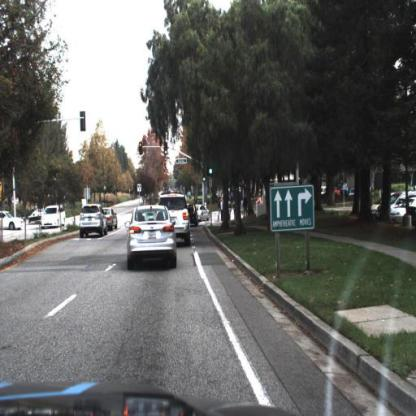car: (126, 204, 176, 271), (171, 194, 192, 247), (80, 204, 108, 239), (81, 204, 106, 240), (40, 203, 67, 230), (42, 205, 66, 230), (392, 197, 416, 222), (1, 210, 26, 231), (189, 202, 201, 230), (25, 209, 44, 225), (106, 208, 118, 232), (198, 202, 212, 222), (190, 204, 200, 229)
trafficLight: (139, 140, 144, 154)
trafficLight-Green: (163, 140, 171, 156), (209, 160, 214, 178), (165, 141, 170, 157), (204, 172, 208, 184)
trafficLight-RedLeft: (138, 140, 145, 158)
